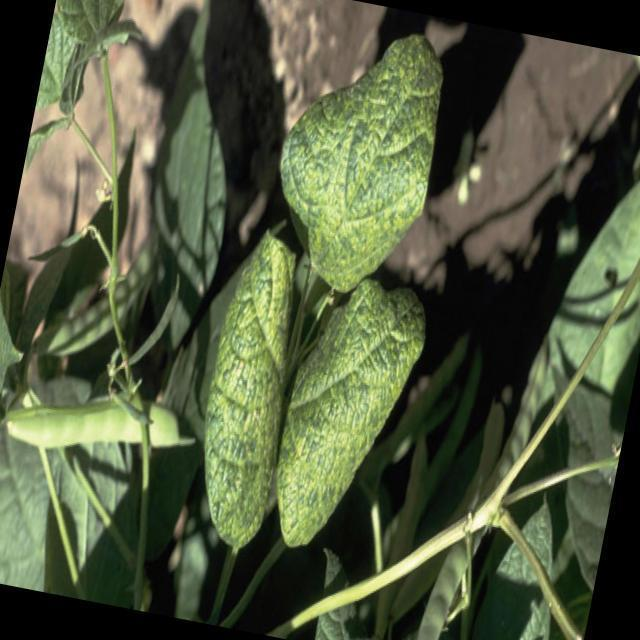Mosaic Virus: (261, 291, 434, 586), (264, 33, 454, 300), (180, 250, 317, 550)
